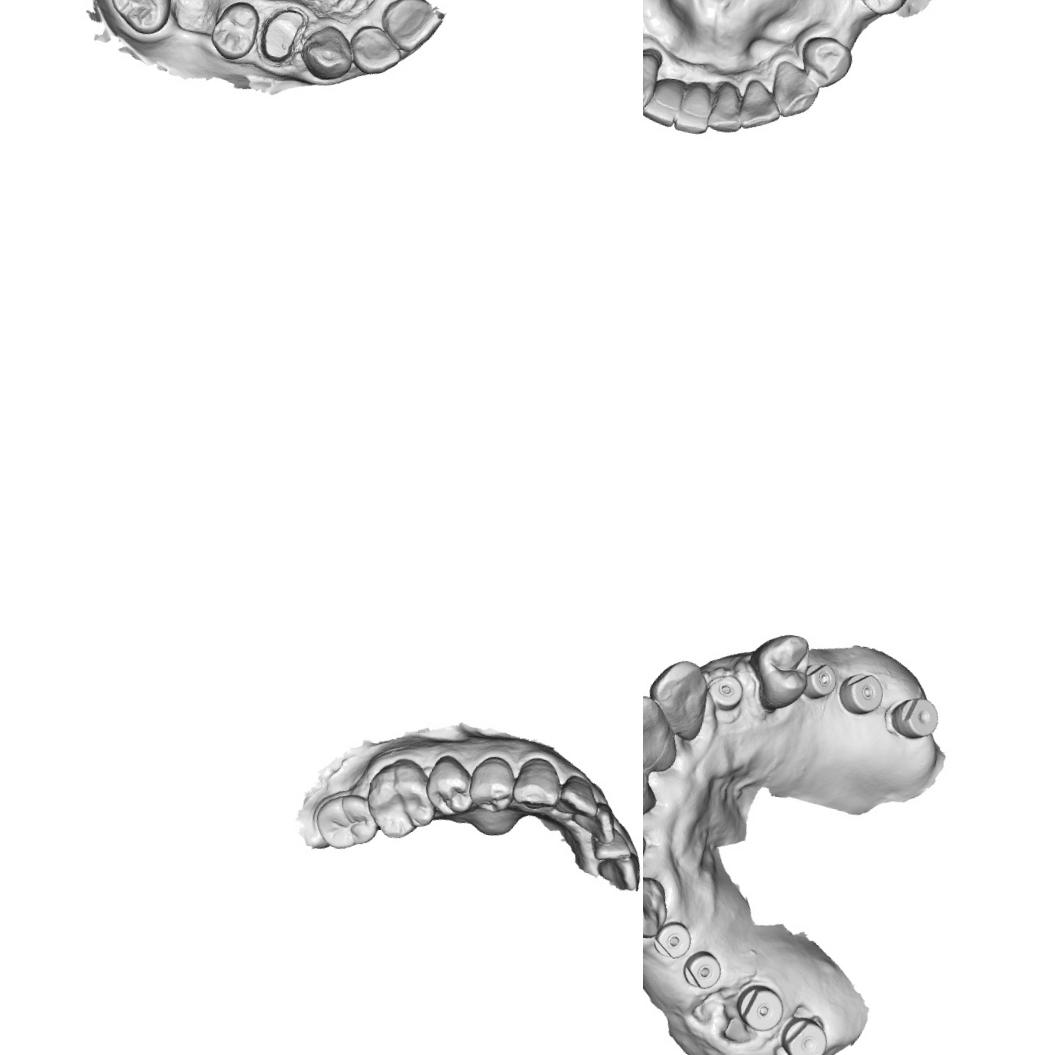canine: (296, 18, 358, 84), (768, 58, 822, 123), (508, 753, 566, 813), (643, 869, 674, 943), (643, 48, 661, 114)
crown: (252, 2, 311, 70)
implant: (883, 692, 942, 744), (732, 980, 788, 1034), (834, 669, 888, 719), (778, 1012, 831, 1055), (680, 947, 725, 992), (650, 917, 694, 963), (804, 660, 841, 704), (706, 672, 746, 712)
incisor: (643, 654, 714, 744), (375, 0, 445, 58), (346, 22, 407, 80), (643, 689, 686, 766), (736, 77, 786, 134), (671, 80, 715, 136), (554, 772, 604, 819), (643, 74, 684, 128), (706, 80, 746, 135), (594, 847, 642, 890), (643, 749, 663, 832), (587, 801, 622, 847), (592, 830, 634, 866)
molar: (360, 753, 442, 845), (310, 788, 383, 854), (105, 0, 180, 39), (841, 0, 930, 21)
premolar: (740, 626, 815, 718), (421, 752, 479, 820), (796, 32, 856, 92), (464, 752, 520, 816), (207, 0, 262, 63)
